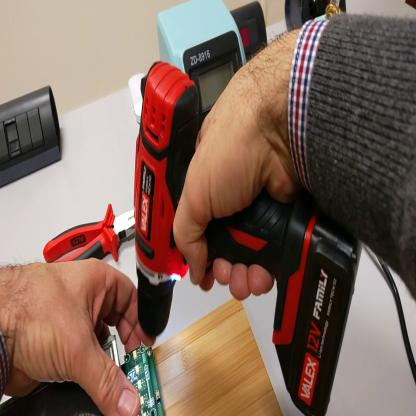electric screwdriver: (134, 62, 313, 350)
hand: (171, 50, 297, 304), (2, 258, 156, 414)
low voltage board: (1, 335, 164, 416)
pliers: (40, 198, 137, 263)
socket: (231, 3, 270, 61), (285, 1, 346, 34)
welder base: (315, 1, 346, 23)
welder station: (158, 3, 247, 117)
working area: (154, 301, 283, 416)
